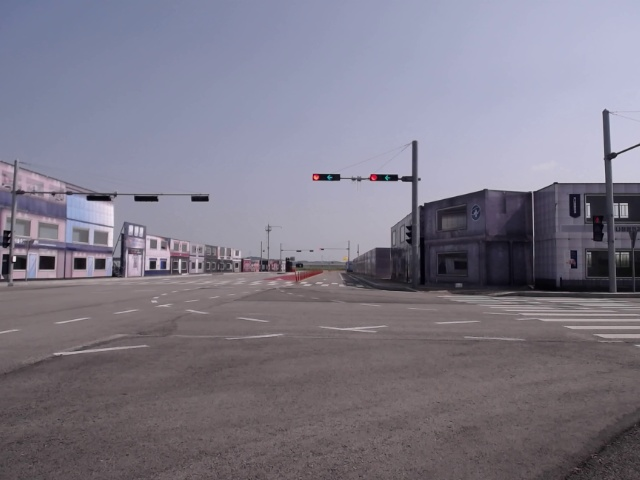left_green_4: (370, 174, 398, 181), (313, 174, 340, 180)
